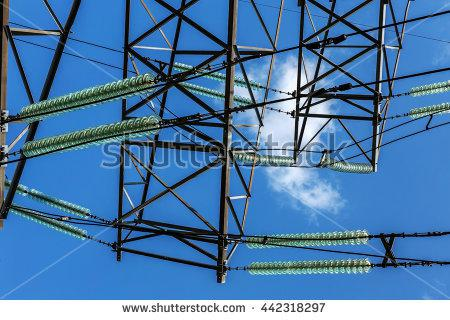isolator: (20, 73, 161, 157), (244, 229, 372, 276), (5, 179, 91, 240), (173, 62, 261, 106), (409, 79, 450, 120), (230, 151, 294, 168), (322, 158, 373, 174)
